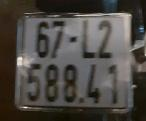1: (102, 63, 118, 107)
2: (93, 20, 112, 61)
4: (82, 64, 100, 107)
5: (19, 59, 40, 106)
6: (31, 17, 52, 61)
7: (47, 20, 65, 62)
8: (58, 63, 75, 106), (42, 64, 57, 106)
L: (73, 16, 94, 60)
